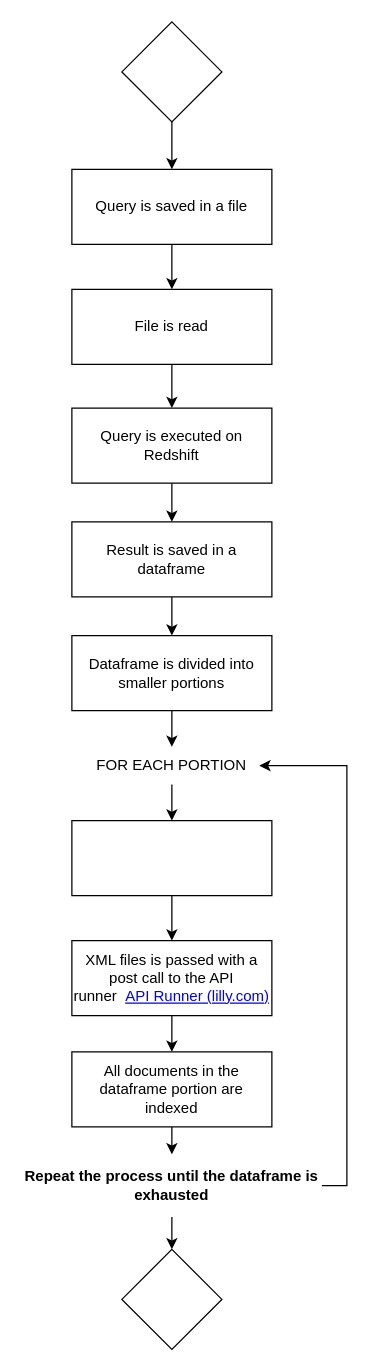
The diagram is 379 pixels wide and 1371 high, and some of its shapes have lost their labels. The shapes that lost their labels are listed below. From the top down, each one's centre as x and y in pixels, then its label:
At pixel 171 71: "Start".
At pixel 171 857: "XML file is created".
At pixel 171 1298: "End".
